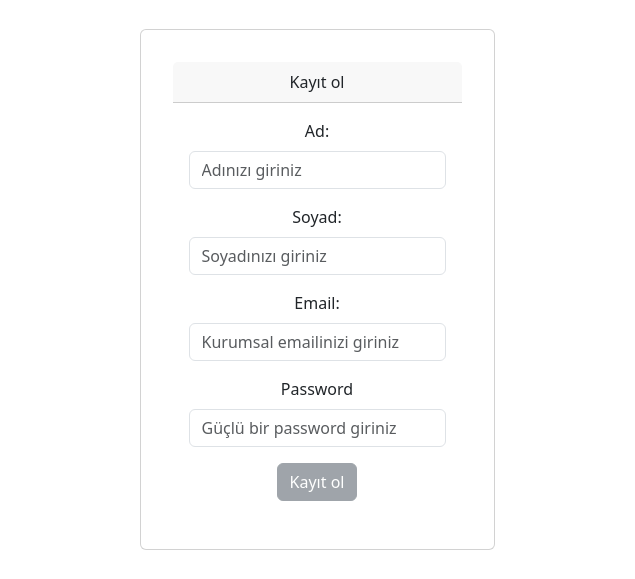
Scenario: Register Page › Error Messages › Password input throws error for 1234
Type "1234" into the password field with test id "password-input" at coordinates (318, 428), box [189,409,446,447]
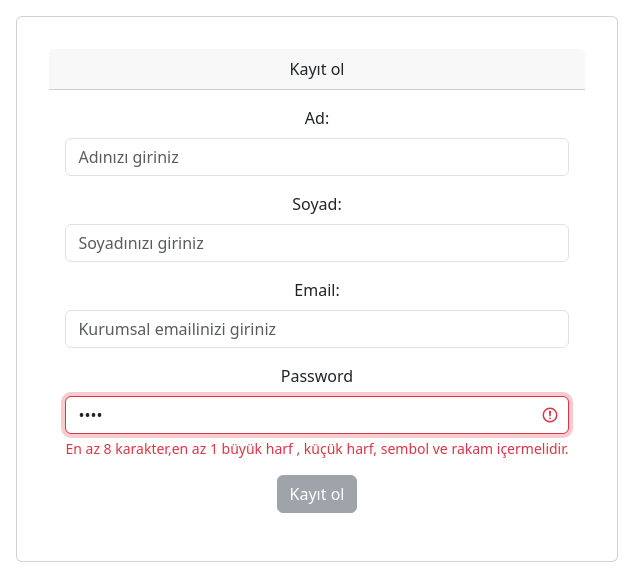
Check: the text "En az 8 karakter,en az 1 büyük harf , küçük harf, sembol ve rakam içermelidir." is shown, box [66,438,569,459]
